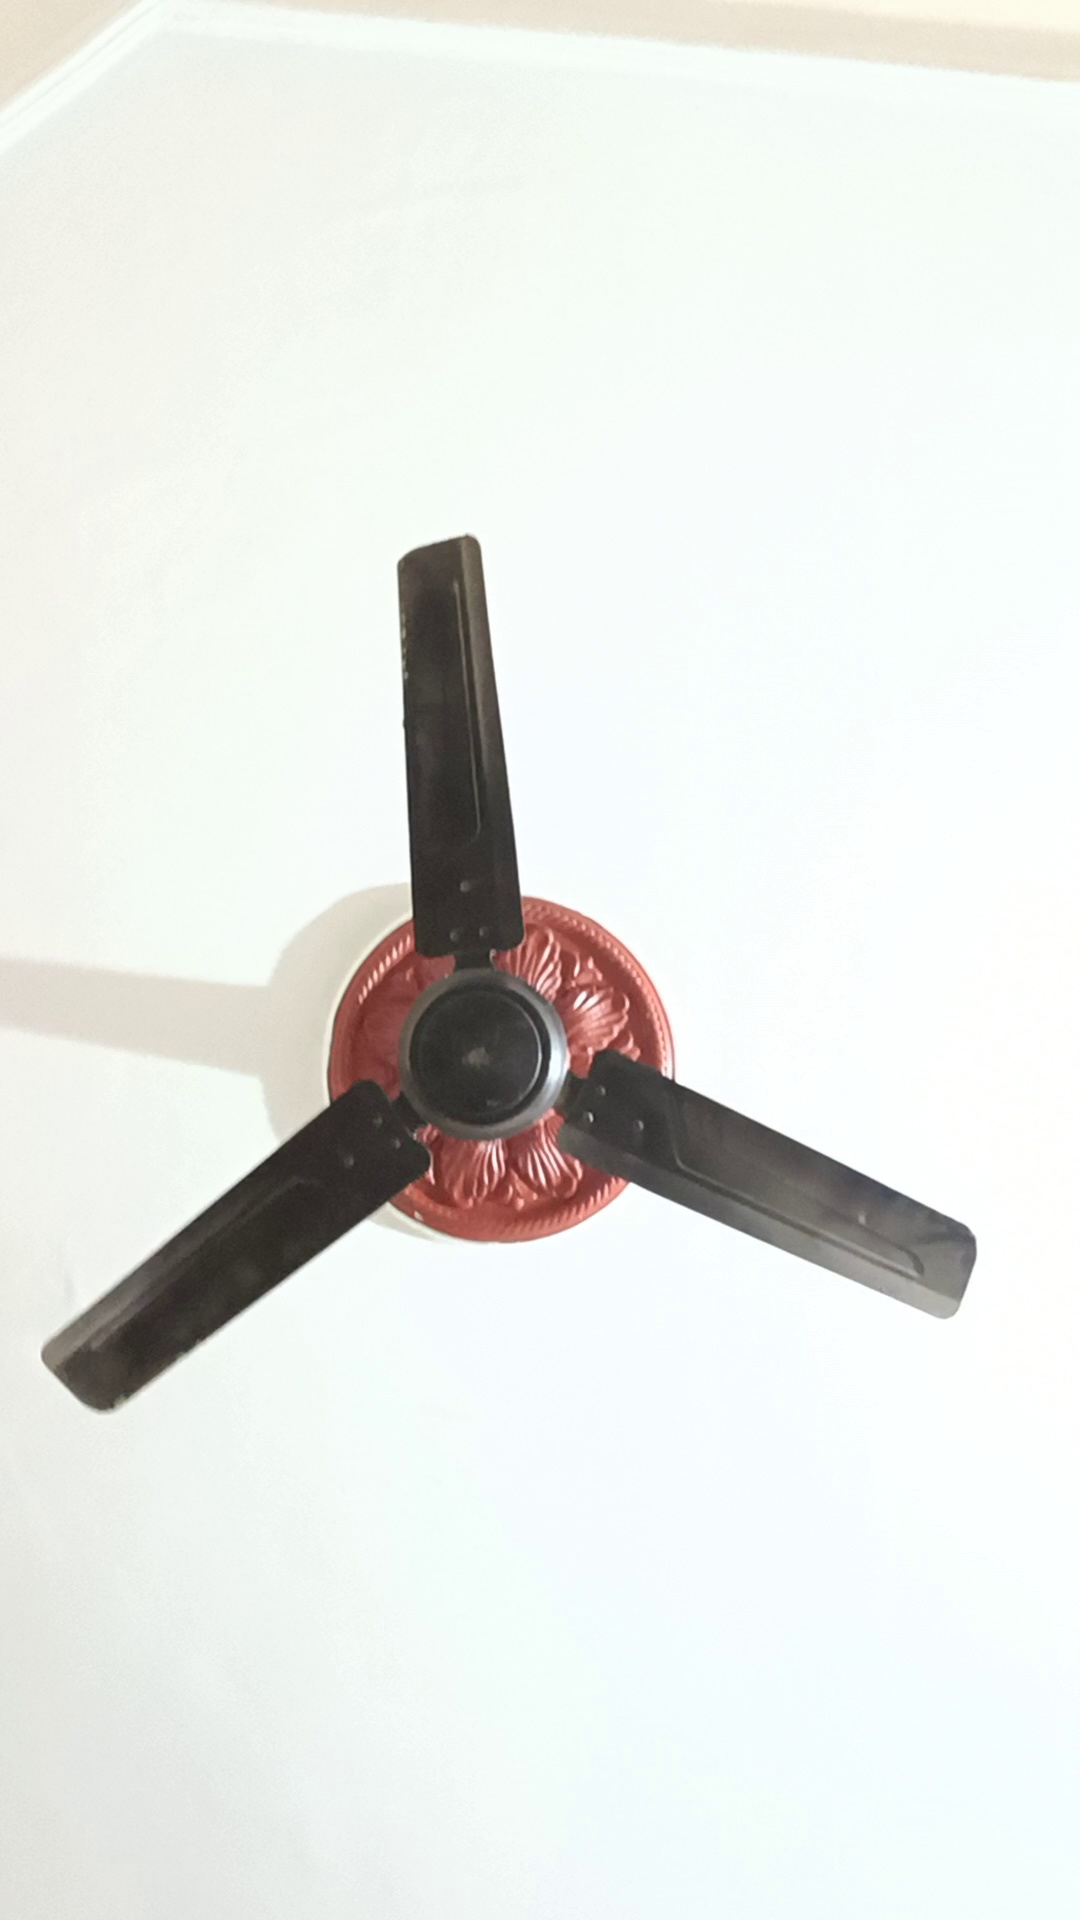fan: (11, 506, 1059, 1424)
